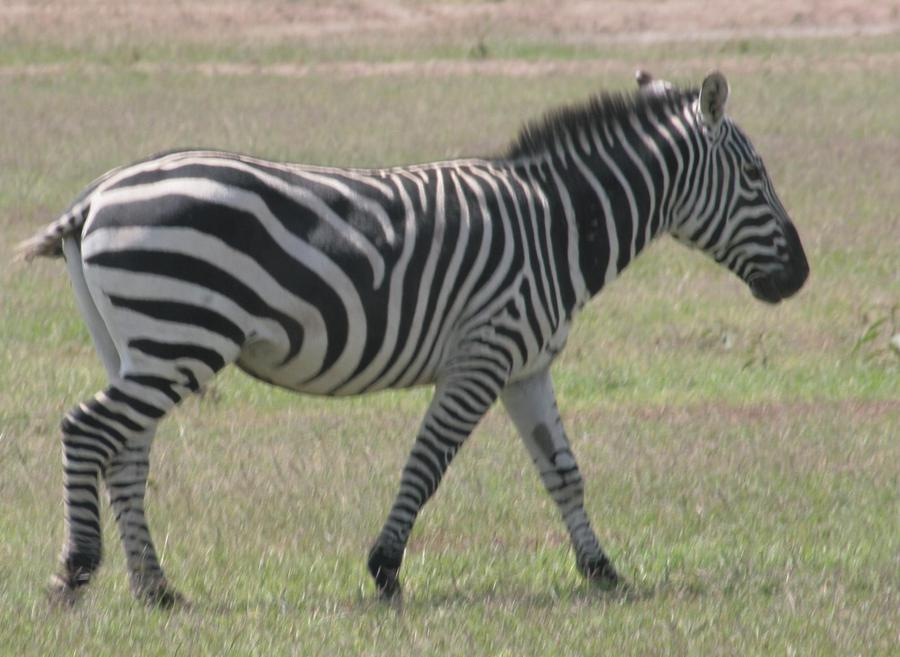zebra_plains: (92, 126, 575, 421)
